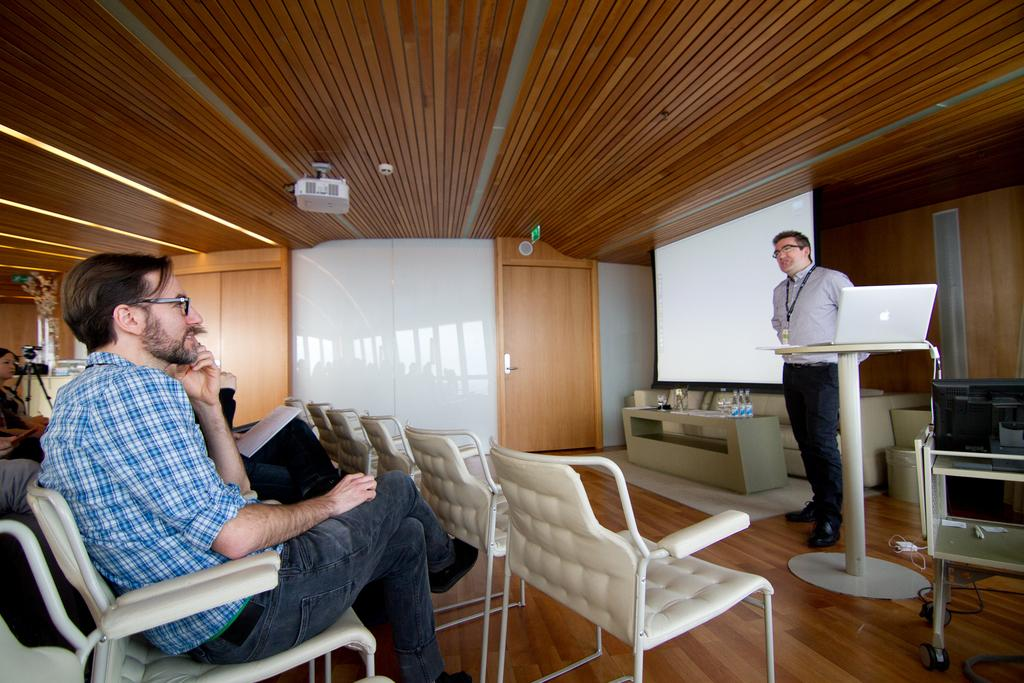Chair: (24, 471, 376, 682), (0, 518, 397, 682), (405, 418, 607, 682), (358, 416, 510, 616), (328, 407, 416, 482), (307, 400, 379, 475), (280, 393, 339, 437), (246, 490, 285, 511)
